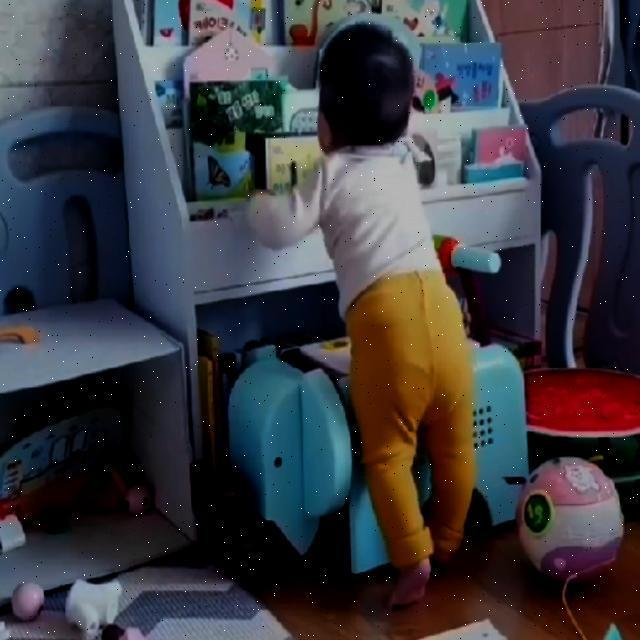child: (235, 33, 473, 608)
